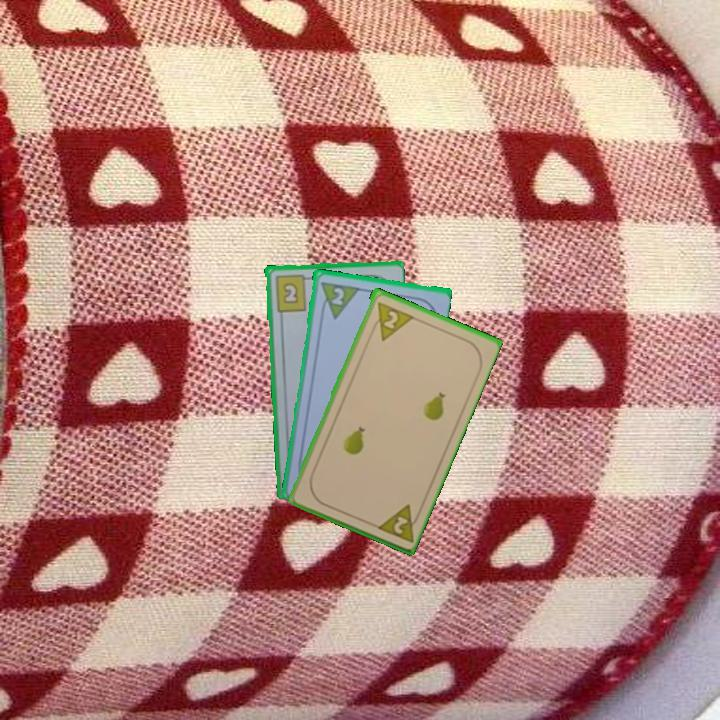2b: (271, 271, 313, 314)
2p: (367, 297, 415, 343), (317, 278, 360, 321), (389, 512, 411, 537)
